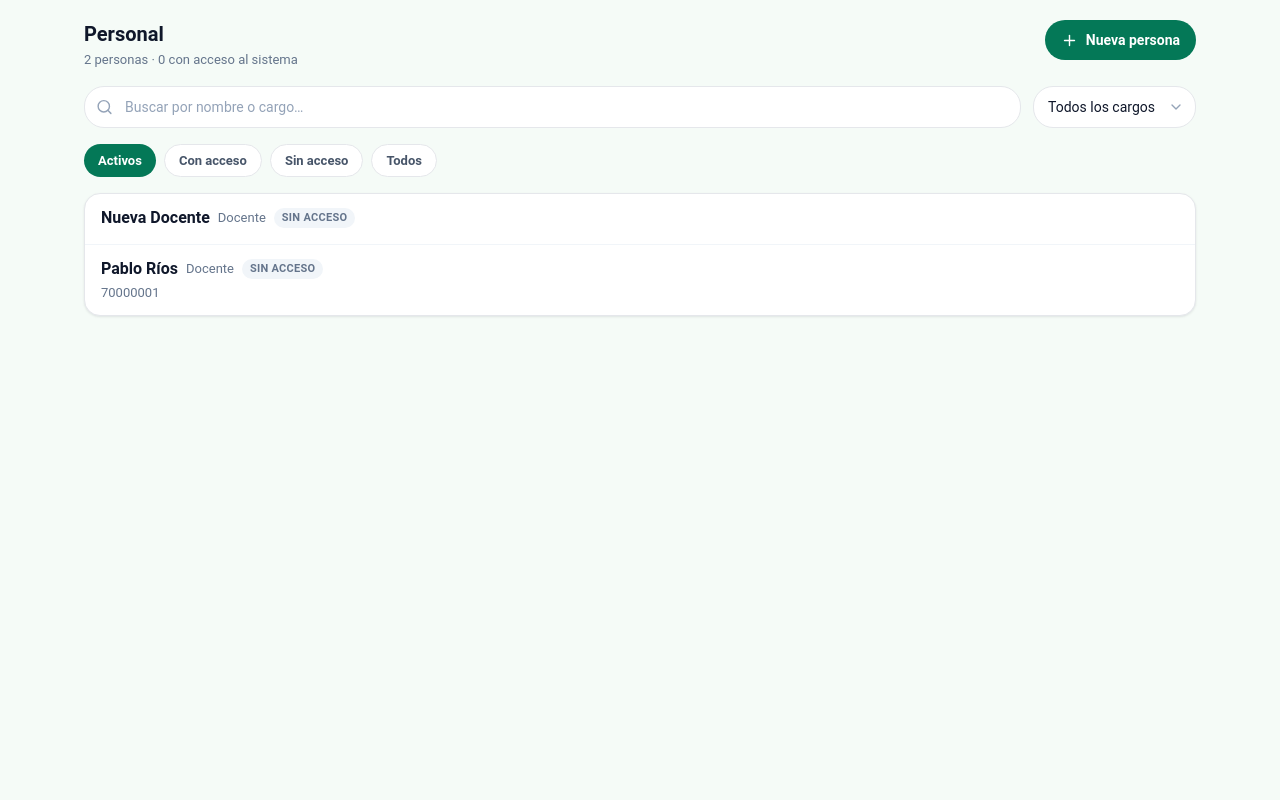
Test case: ronda 1 · U2 cosmético · el instituto no ve restos de la agenda de belleza › al vincular, el aviso de la ficha propia no cuenta «% de comisión»
Click the button with aria-label "Ver Nueva Docente" at (155,218), box top-left (85, 194), bottom-right (1195, 244)
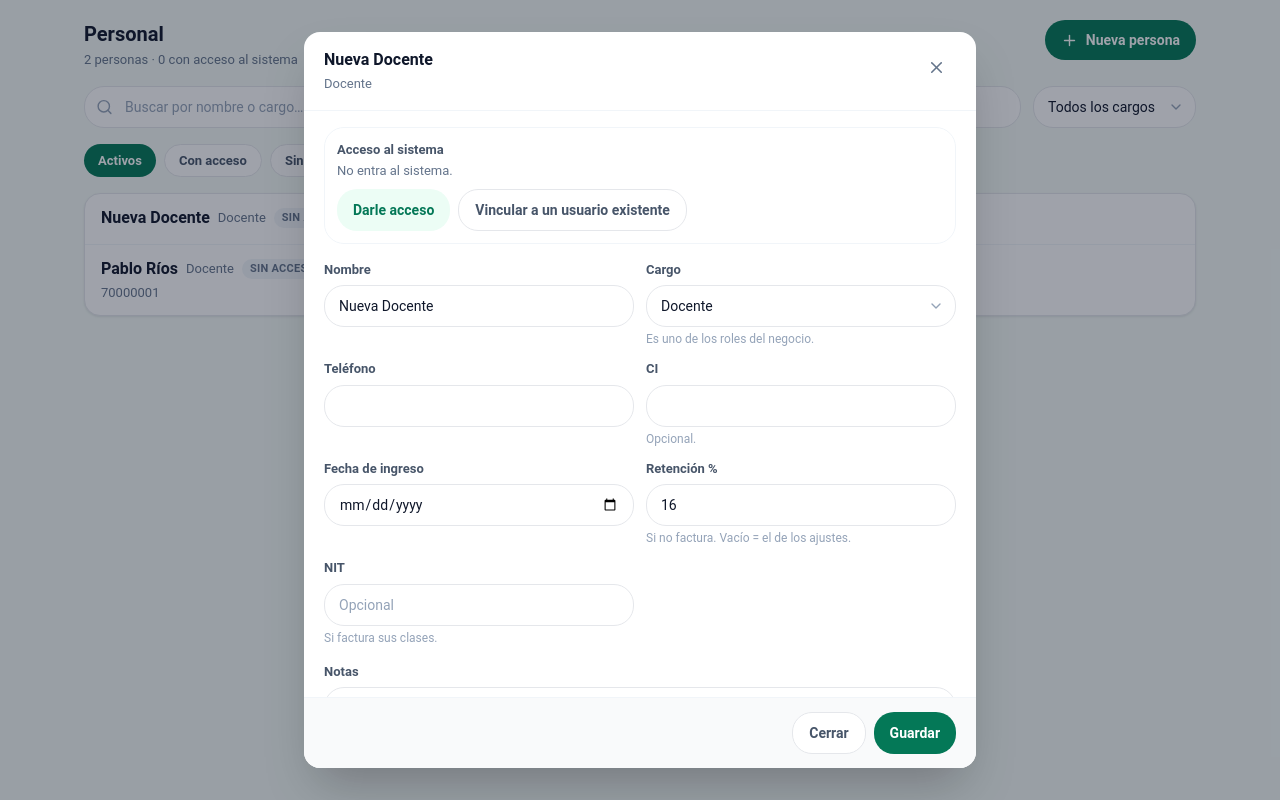
Click the button "Vincular a un usuario existente" at (573,210), box top-left (458, 188), bottom-right (687, 230)
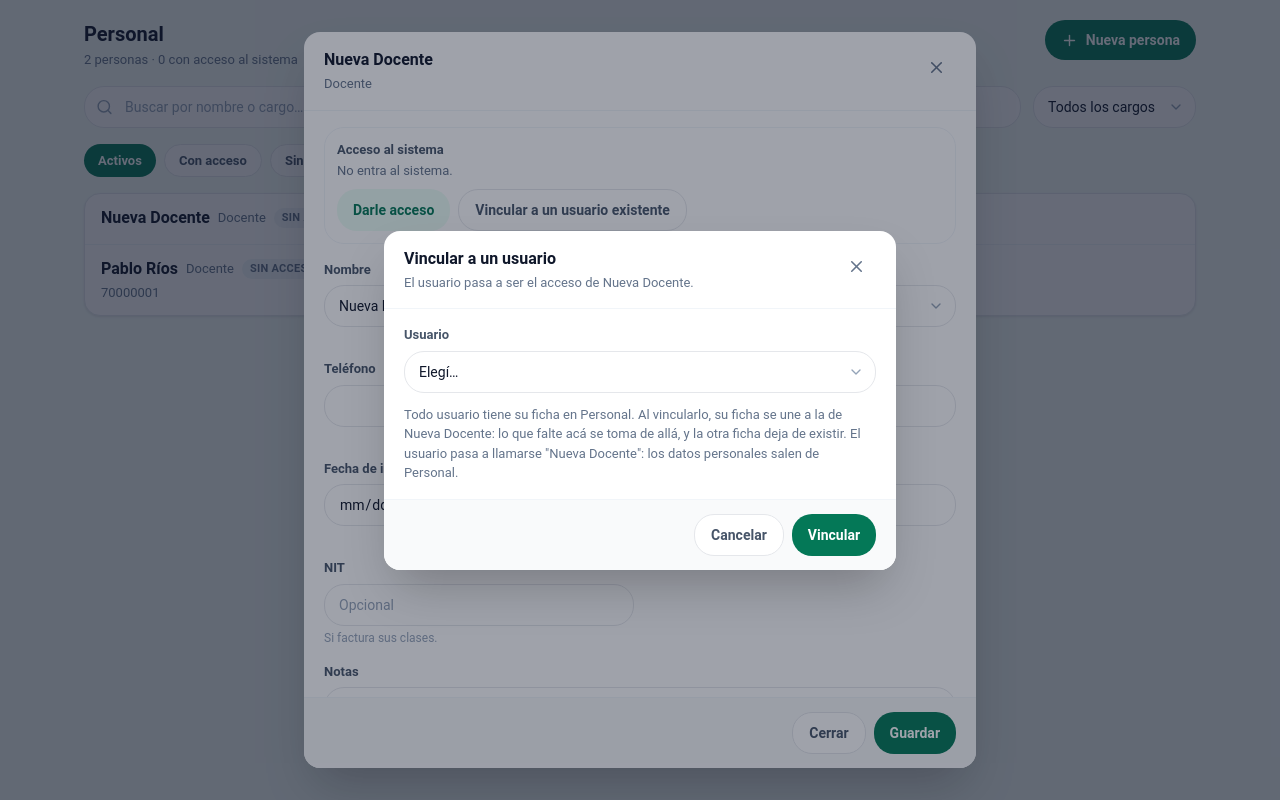
Select "Pablo Ríos (@pablo) · tiene ficha propia" in the dropdown labelled "Usuario" at (640,372), box top-left (404, 350), bottom-right (876, 392)
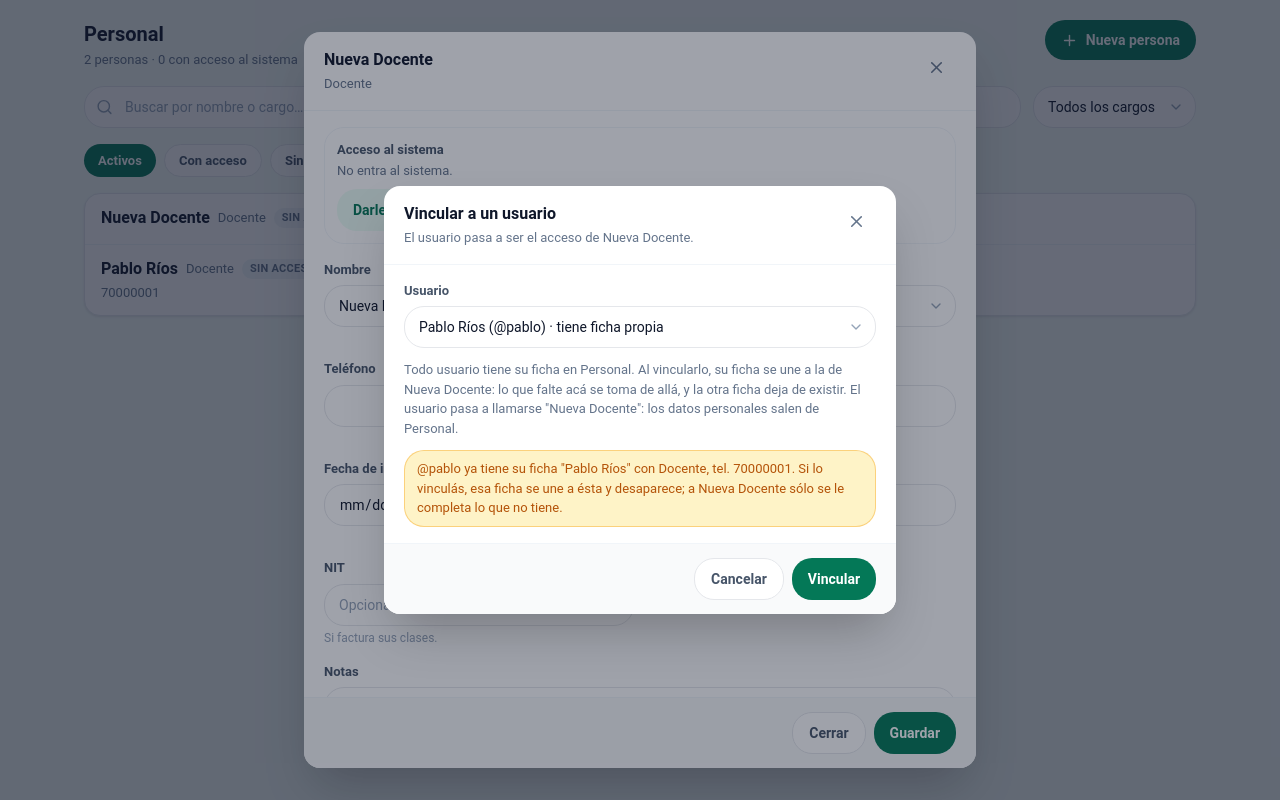
expect the message does not show "comisión": met, box top-left (404, 450), bottom-right (876, 527)
expect the message shows "@pablo ya tiene su ficha": met, box top-left (404, 450), bottom-right (876, 527)
expect the message shows "tel. 70000001": met, box top-left (658, 461), bottom-right (792, 476)
